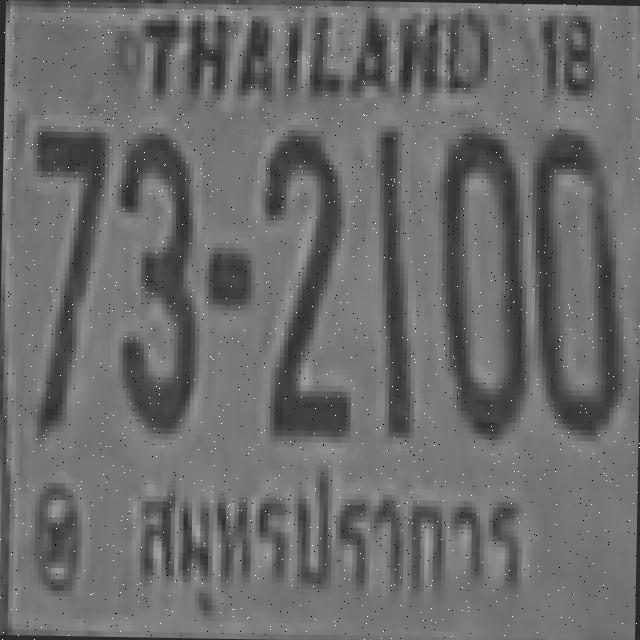0: (434, 124, 528, 437), (526, 125, 620, 433)
2: (262, 132, 342, 405), (260, 130, 340, 396), (265, 189, 350, 434)
3: (112, 127, 198, 428)
7: (28, 125, 105, 398), (30, 126, 104, 324), (30, 125, 105, 308)
SamutPrakan: (120, 456, 541, 639)
